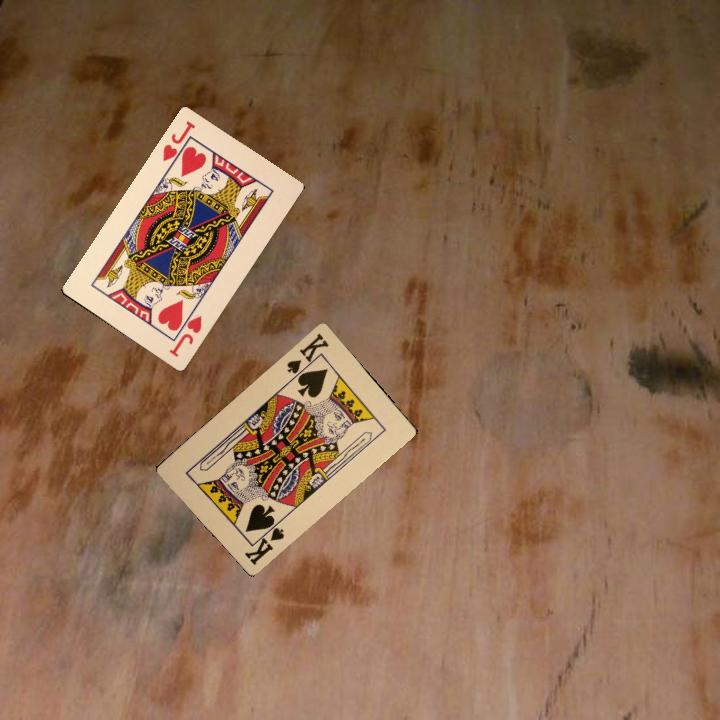Jh: (165, 306, 204, 360), (158, 117, 198, 164)
Ks: (283, 329, 332, 380), (240, 517, 287, 568)
